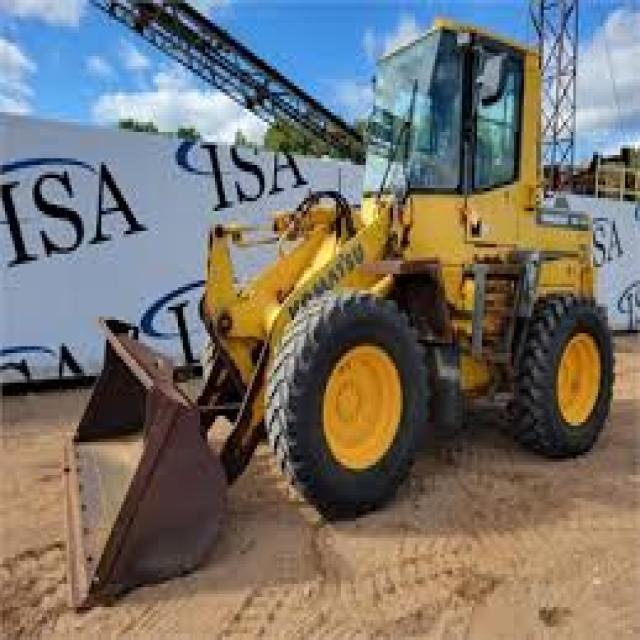buldozerpayloadergrader: (55, 8, 616, 600)
